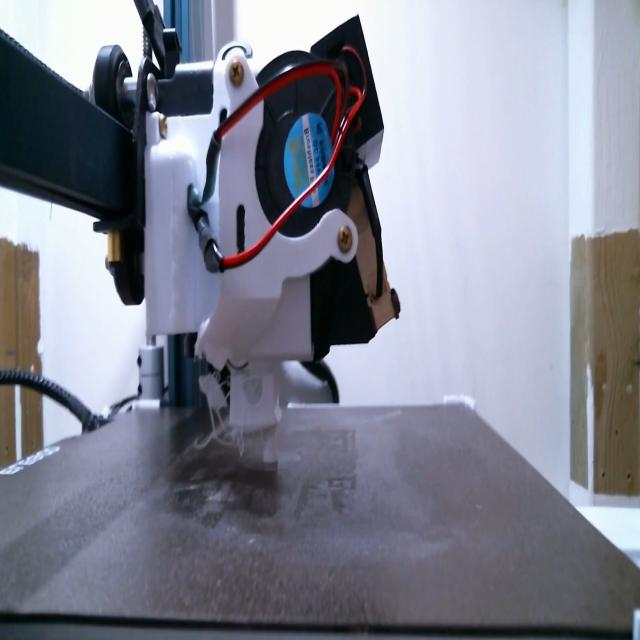spaghetti: (198, 362, 261, 461)
